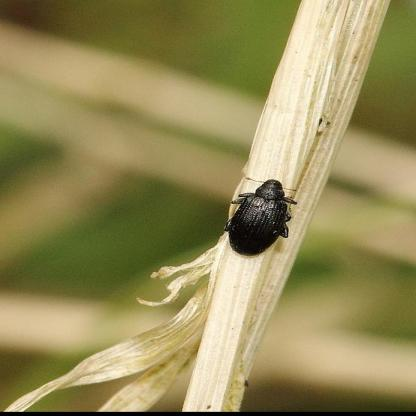beetle: (223, 168, 296, 259)
